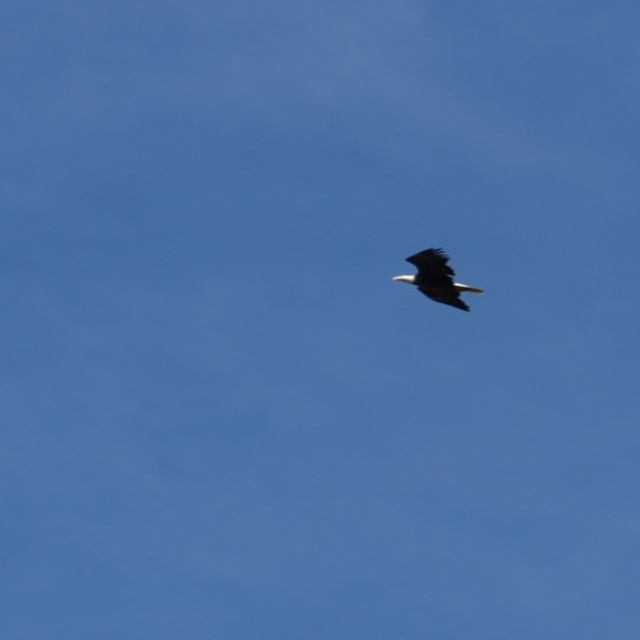Raven: (386, 240, 488, 314)
